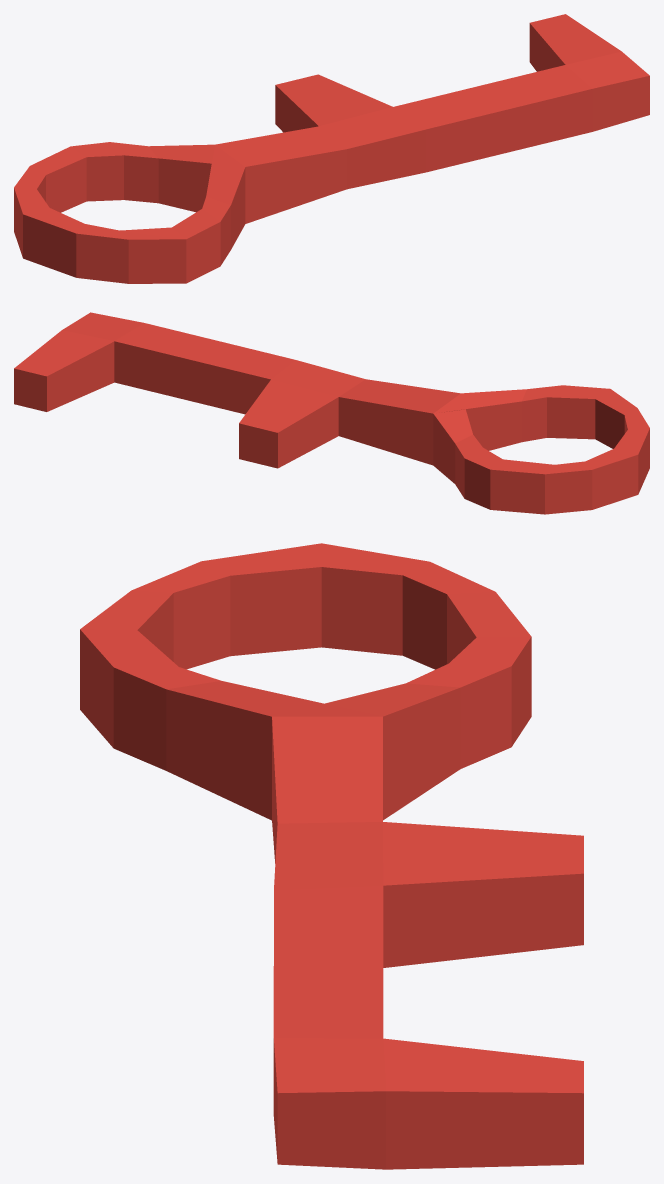
File: CrimsonKey.glb
3 views of the same model, one above another, from view 1: azimuth 30°, elevation 25°; view 2: azimuth 150°, elevation 25°; view 3: azimuth 270°, elevation 25° (orthographic). The views are drawn at different scales.
Parts seen in each view (by area): view 1: CrimsonKey__Cube; view 2: CrimsonKey__Cube; view 3: CrimsonKey__Cube.
Boxes of the visible parts, x1,y1,x2,y2 form: CrimsonKey__Cube: [14, 14, 649, 283]; CrimsonKey__Cube: [14, 312, 649, 514]; CrimsonKey__Cube: [80, 543, 583, 1169].
Bounding box in the file's own units: 0.85 × 0.0753 × 0.3309.
